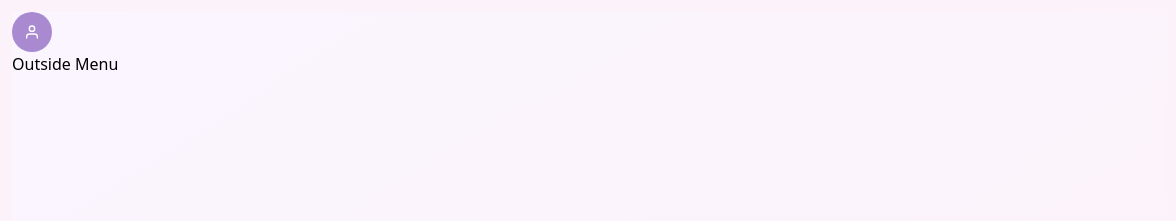
Test: UserMenu › closes the dropdown when clicked outside
Step 1. Click the button → (32, 32), box [12, 12, 52, 52]
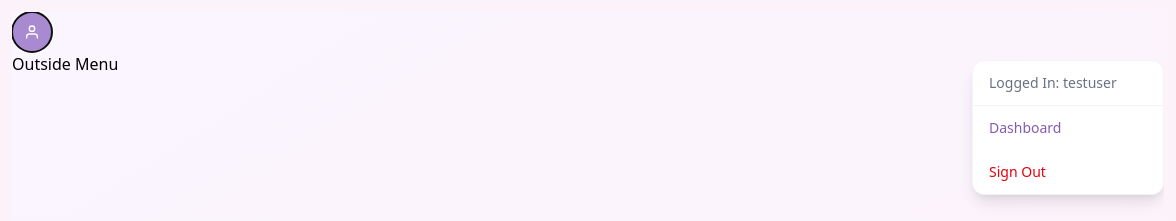
Step 2. Click the text "Outside Menu" → (65, 64), box [12, 53, 118, 75]
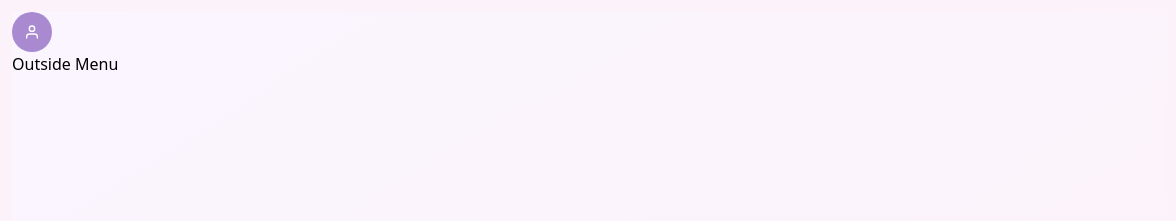
Check: the text "Logged In: testuser" is gone
